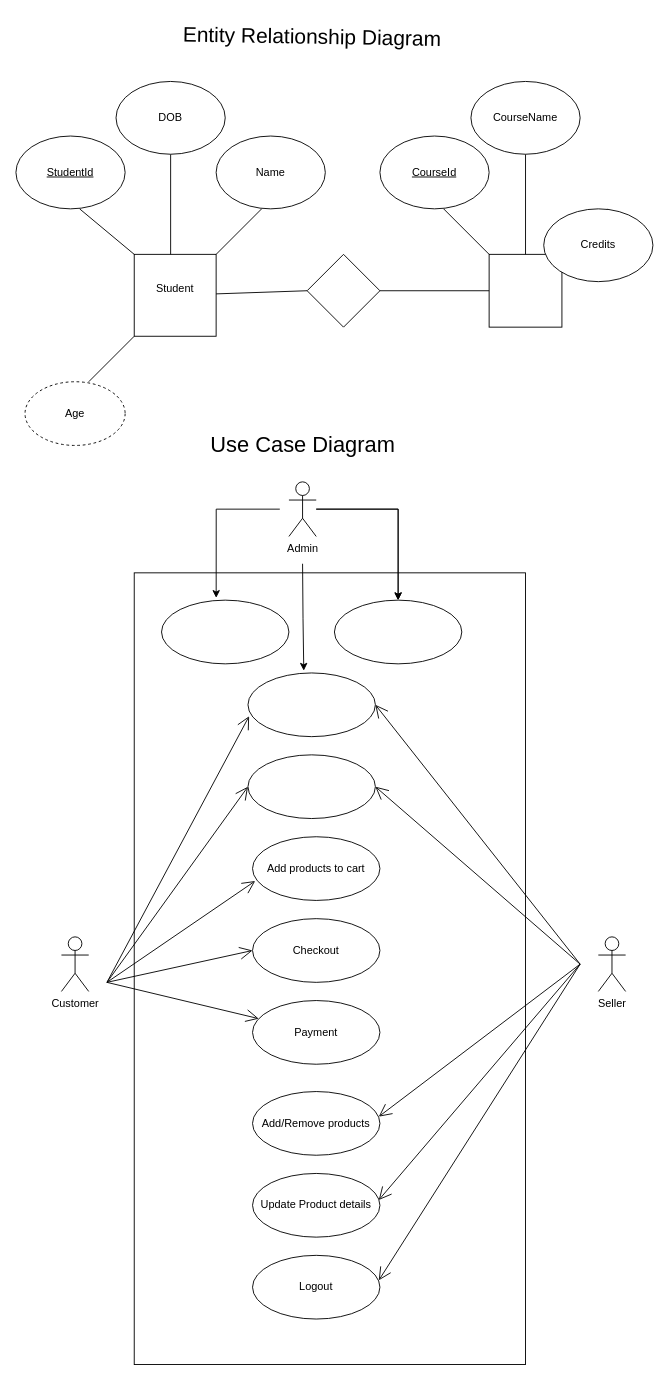
Some shapes in this 669 by 1389 pixel diagram are drawn without their labels. The shapes that lost their labels are listed below. From the top down, each one's centre as x and y in pixels, then its label:
point (343, 290): enrolled
point (525, 290): courses
point (225, 631): Manage Accounts
point (398, 631): Delete Accounts
point (311, 704): Login
point (311, 786): View Products
